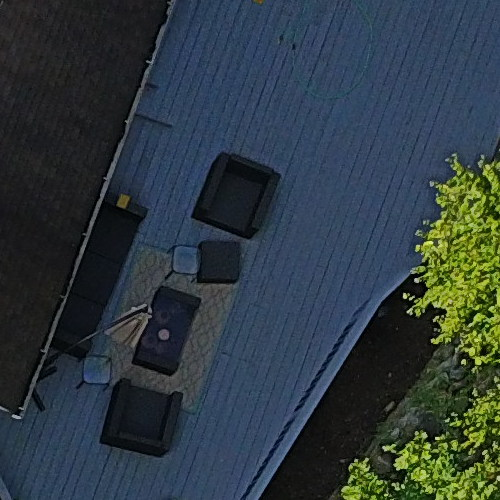container: (156, 326, 173, 342)
no larvae: (158, 327, 175, 341)
